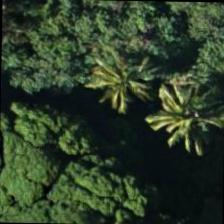Kelapa_Sawit: (126, 70, 218, 162), (70, 29, 162, 121)
